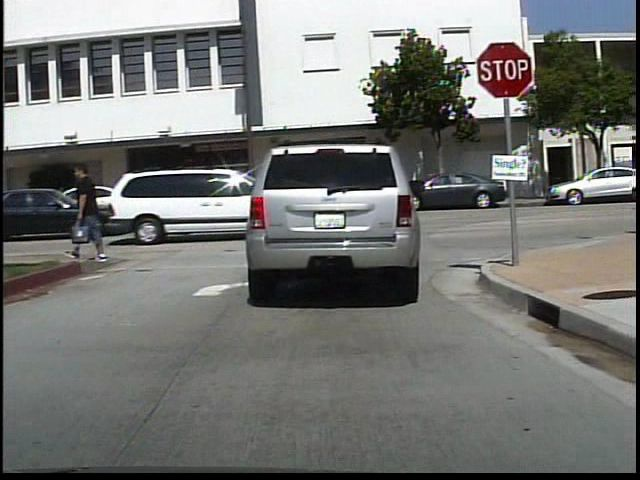person: (63, 160, 118, 267), (55, 177, 80, 226), (22, 175, 45, 221)
